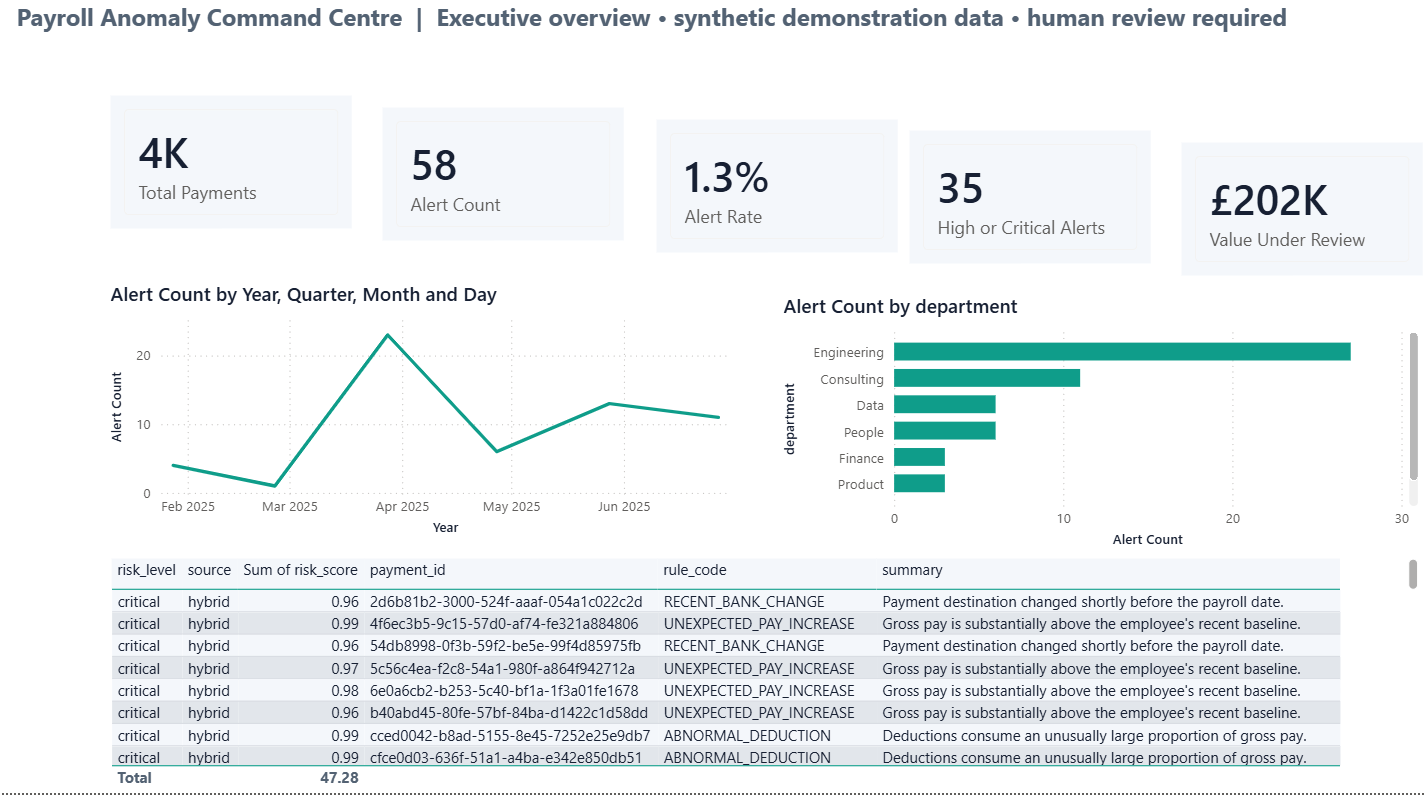

Layout of this report page (visuals, bound fields, positions):
{"tool":"powerbi","page":{"name":"Executive Overview","canvas":[1280,720],"ordinal":0},"visuals":[{"type":"cardVisual","fields":{"Data":["public anomaly_alerts.Total Payments"]},"box":[94.3,90.8,226.9,129.2],"z":0},{"type":"cardVisual","fields":{"Data":["public anomaly_alerts.Alert Count"]},"box":[337.5,101.2,226.9,129.2],"z":1},{"type":"cardVisual","fields":{"Data":["public anomaly_alerts.Alert Rate"]},"box":[583,111.7,226.9,129.2],"z":2},{"type":"cardVisual","fields":{"Data":["public anomaly_alerts.High or Critical Alerts"]},"box":[809.9,122.2,226.9,129.2],"z":3},{"type":"cardVisual","fields":{"Data":["public anomaly_alerts.Value Under Review"]},"box":[1053.1,132.7,226.9,129.2],"z":4},{"type":"textbox","box":[10,5,1248,70],"z":5},{"type":"lineChart","fields":{"Y":["public anomaly_alerts.Alert Count"],"Category":["public payroll_runs.payment_date.Variation.Date Hierarchy.Year","public payroll_runs.payment_date.Variation.Date Hierarchy.Quarter","public payroll_runs.payment_date.Variation.Date Hierarchy.Month","public payroll_runs.payment_date.Variation.Date Hierarchy.Day"]},"box":[94.3,261.8,578.3,232.7],"z":6},{"type":"clusteredBarChart","fields":{"Category":["public employees.department"],"Y":["public anomaly_alerts.Alert Count"]},"box":[697,272.3,578.3,232.7],"z":7},{"type":"tableEx","fields":{"Values":["public anomaly_alerts.risk_level","public anomaly_alerts.source","Sum(public anomaly_alerts.risk_score)","public anomaly_alerts.payment_id","public anomaly_alerts.rule_code","public anomaly_alerts.summary"]},"box":[94.3,505,1181.1,215.3],"z":8}]}

Visuals, with their boxes in screenshot pixels (x1, y1, x2, y2), scaled from the page's 1280x720 canvas onto the 1424x796 screenshot:
cardVisual - public anomaly_alerts.Total Payments: 105,100,357,243
cardVisual - public anomaly_alerts.Alert Count: 375,112,628,255
cardVisual - public anomaly_alerts.Alert Rate: 649,123,901,266
cardVisual - public anomaly_alerts.High or Critical Alerts: 901,135,1153,278
cardVisual - public anomaly_alerts.Value Under Review: 1172,147,1423,290
textbox: 11,6,1400,83
lineChart - public anomaly_alerts.Alert Count x public payroll_runs.payment_date.Variation.Date Hierarchy.Year: 105,289,748,547
clusteredBarChart - public employees.department x public anomaly_alerts.Alert Count: 775,301,1419,558
tableEx - public anomaly_alerts.risk_level x public anomaly_alerts.source: 105,558,1419,795
